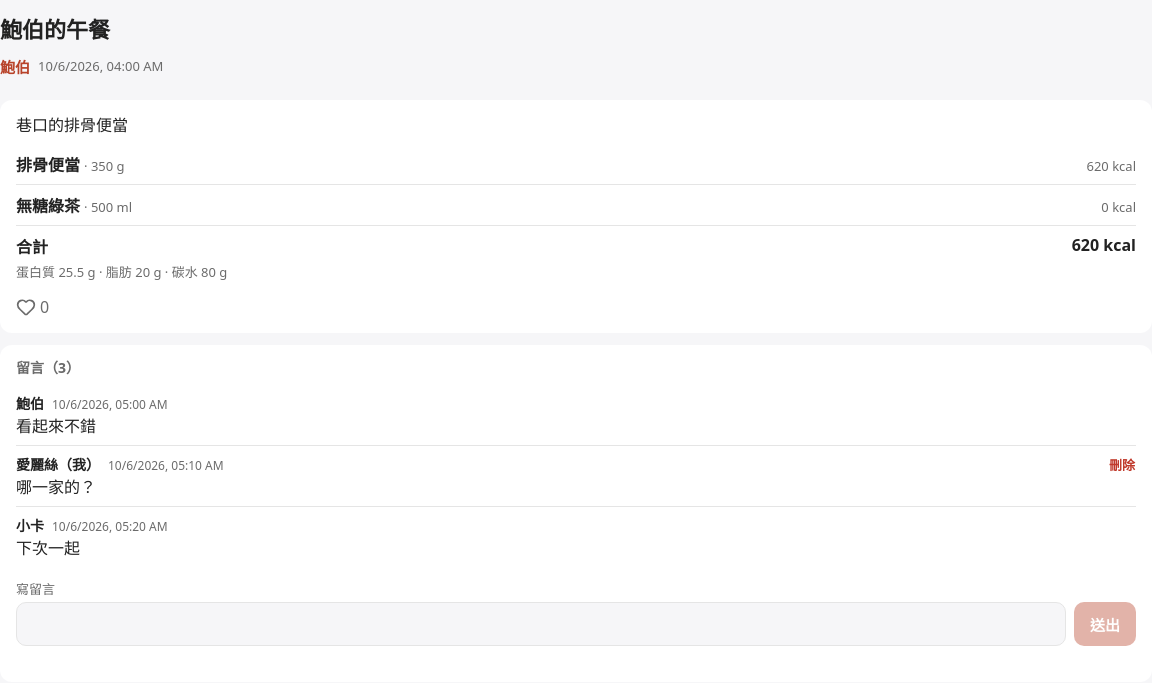
Test: 餐點頁：刪留言 › 確定：送 DELETE，重抓之後那一則不見，焦點在留言的標題上
Click the button with aria-label "刪除 愛麗絲 的留言": (1122, 464) [1100,442,1144,486]
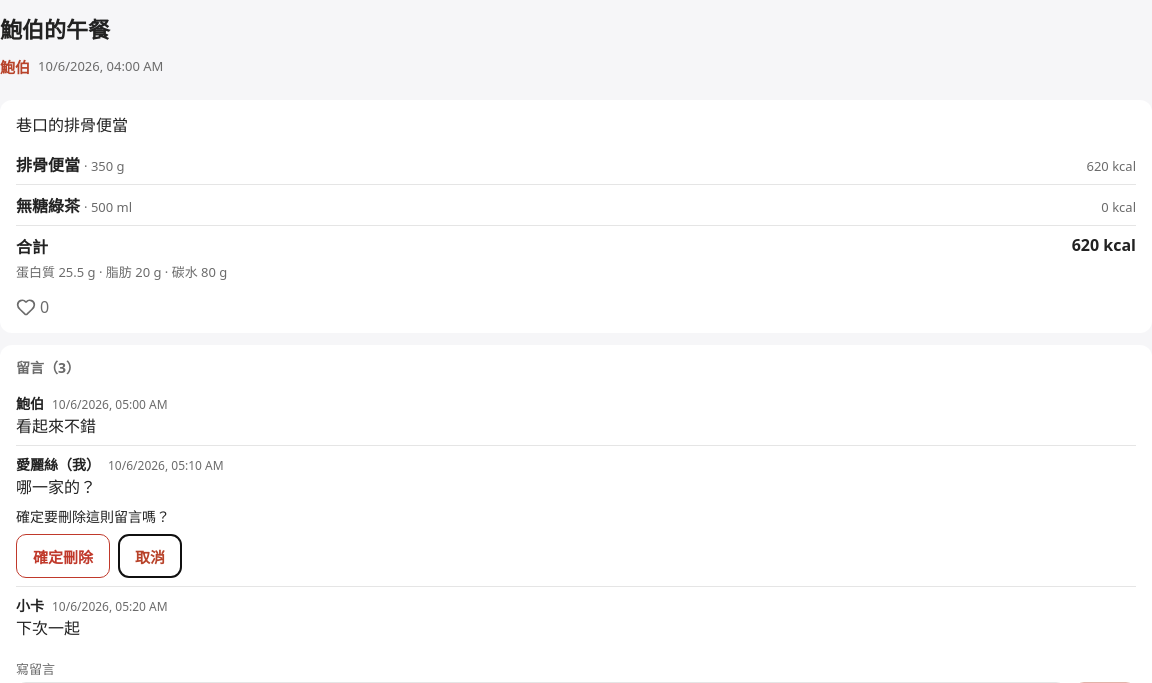
Click the button "確定刪除": (63, 556) [16,534,110,578]
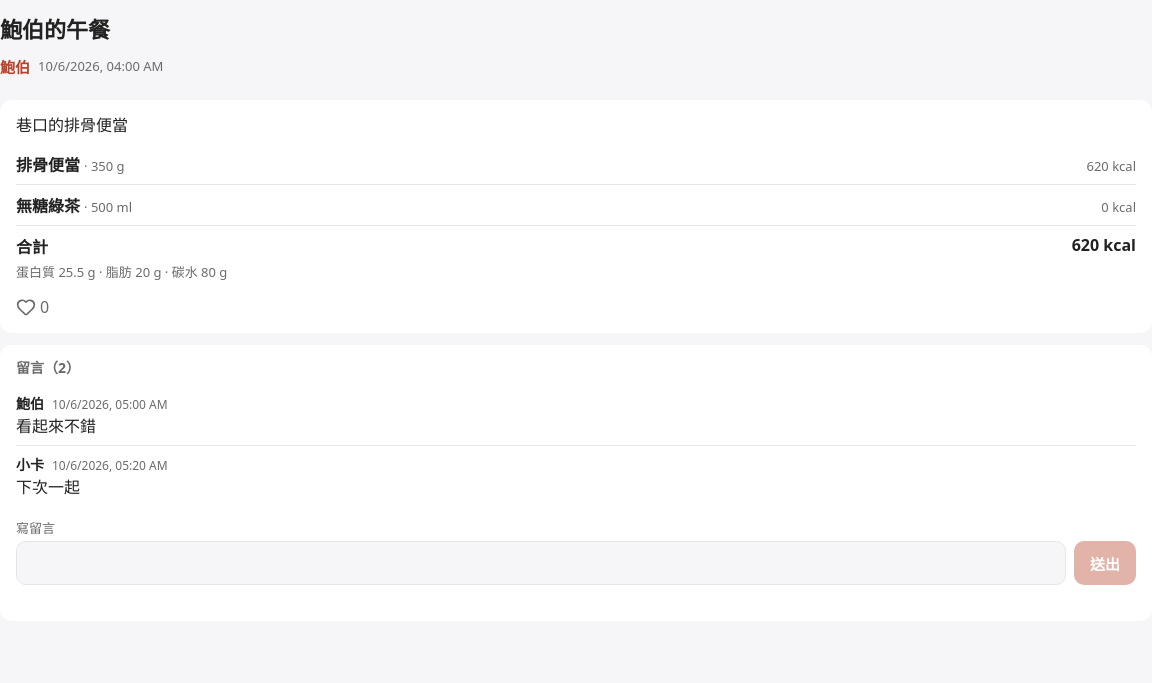
Check: the text "看起來不錯" is shown, box [16,415,96,437]
Check: the text "哪一家的？" is gone
